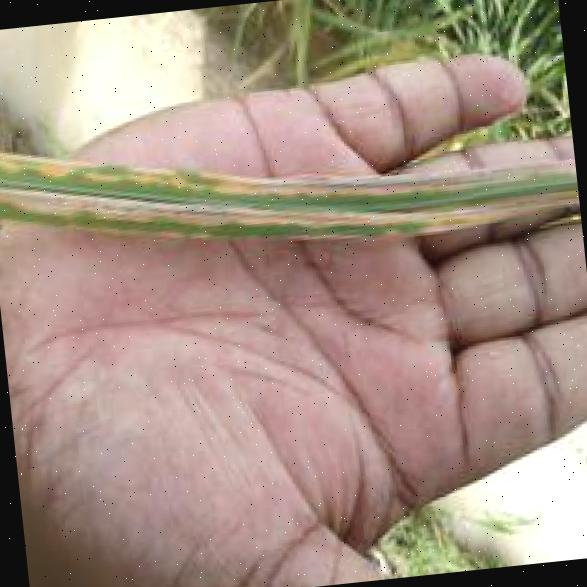Bacteria_Leaf_Blight: (0, 79, 572, 276)
